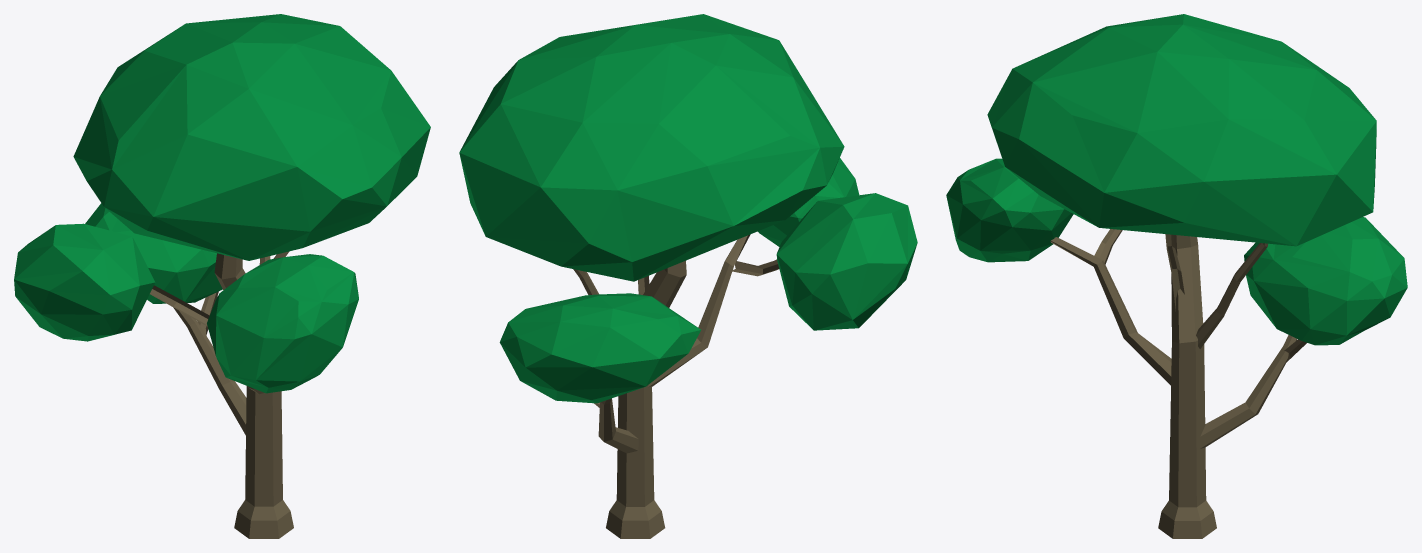
Rendered from SM_Factory_Tree_05.glb.
3 views of the same model, side by side, from view 1: azimuth 30°, elevation 25°; view 2: azimuth 150°, elevation 25°; view 3: azimuth 270°, elevation 25° (orthographic).
Parts seen in each view (by area): view 1: SM_Factory_Tree_05; view 2: SM_Factory_Tree_05; view 3: SM_Factory_Tree_05.
Boxes of the visible parts, bbox=[...] form: SM_Factory_Tree_05: bbox=[14, 14, 430, 538]; SM_Factory_Tree_05: bbox=[459, 14, 917, 538]; SM_Factory_Tree_05: bbox=[946, 14, 1407, 538].
Bounding box in the file's own units: 3.82 × 4.56 × 3.91.
Materials: 1 (1 with a texture image).
